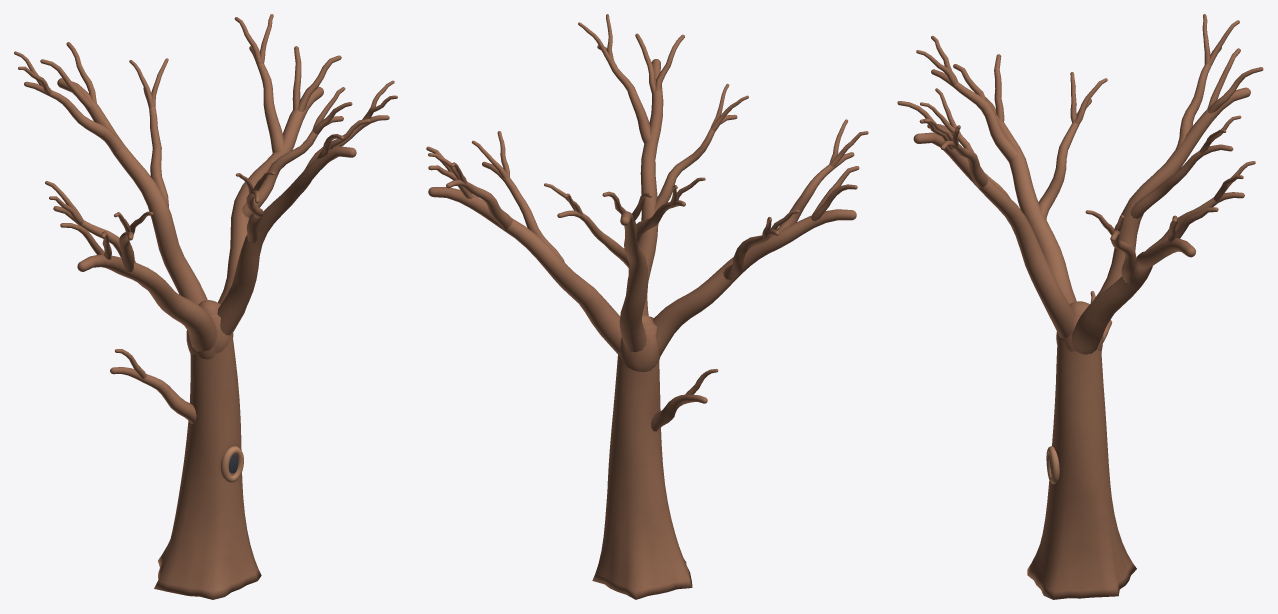
Rendered from dead-tree.glb.
3 renders of one model, left to right at view 1: azimuth 30°, elevation 25°; view 2: azimuth 150°, elevation 25°; view 3: azimuth 270°, elevation 25°, orthographic. The views are drawn at different scales.
Parts seen in each view (by area): view 1: dead-tree_body; view 2: dead-tree_body; view 3: dead-tree_body.
Part boxes in pixels (x1,y1,x2,y2): dead-tree_body: (14, 14, 397, 599); dead-tree_body: (426, 14, 868, 599); dead-tree_body: (897, 14, 1263, 599).
Bounding box in the file's own units: 3.41 × 4.51 × 2.9.
Materials: 1 (1 with a texture image).
